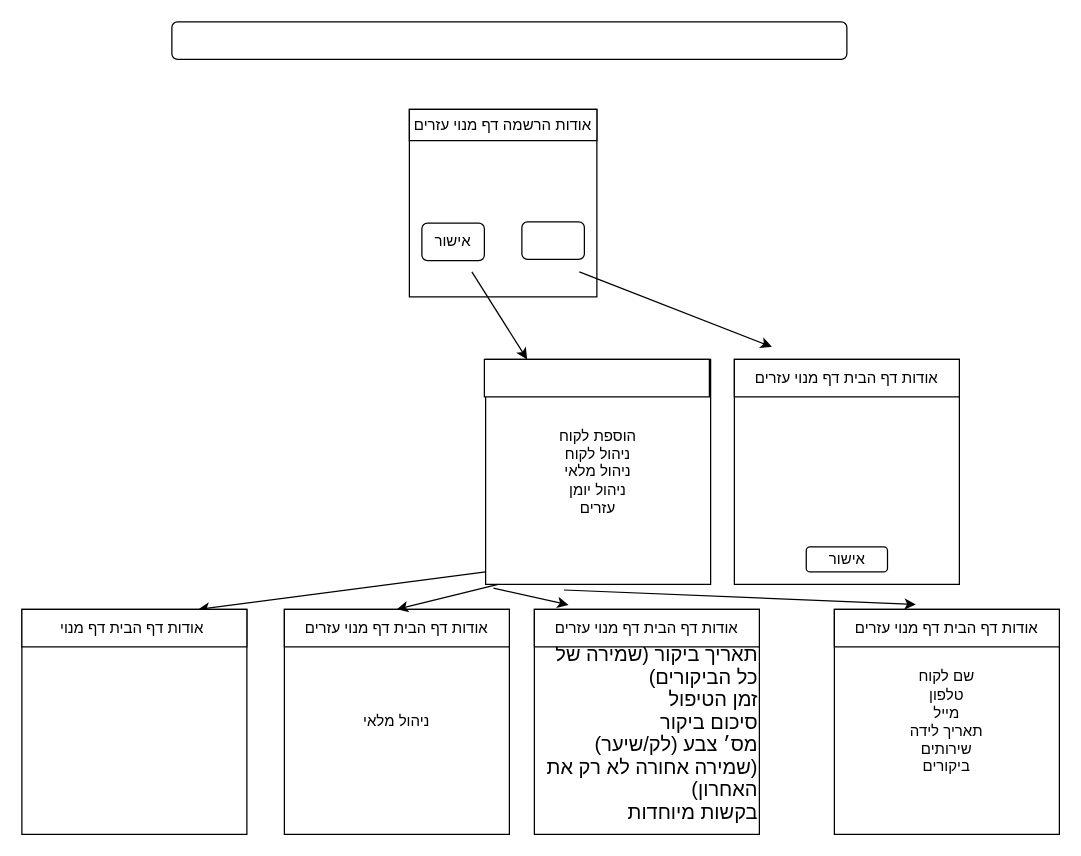
Some shapes in this 1081 by 856 pixel diagram are drawn without their labels. The shapes that lost their labels are listed below. From the top down, each one's box as (x1, y1, x2, y2) in pixels, then its label:
(171, 21, 847, 59): הקמת אפליקציה לניהול קשרי לקוחות בעסקים קטנים כגון מספרות, בניית ציפורניים ועוד
(408, 108, 597, 297): שם משתמש סיסמא
(521, 221, 584, 259): הרשמה
(483, 358, 709, 397): אודות דף הבית חיפוש לקוח
(733, 358, 959, 584): שם מלא מייל טלפון
(21, 608, 247, 834): חיפוש: לפי לקוח לפי תאריך ביקור
